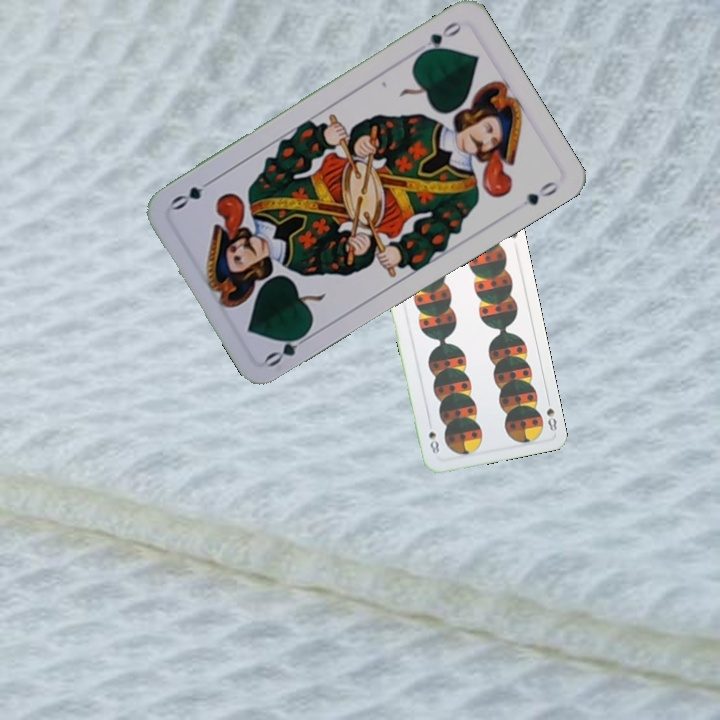GO: (261, 326, 316, 370), (415, 17, 465, 59)
S8: (542, 393, 559, 434)
